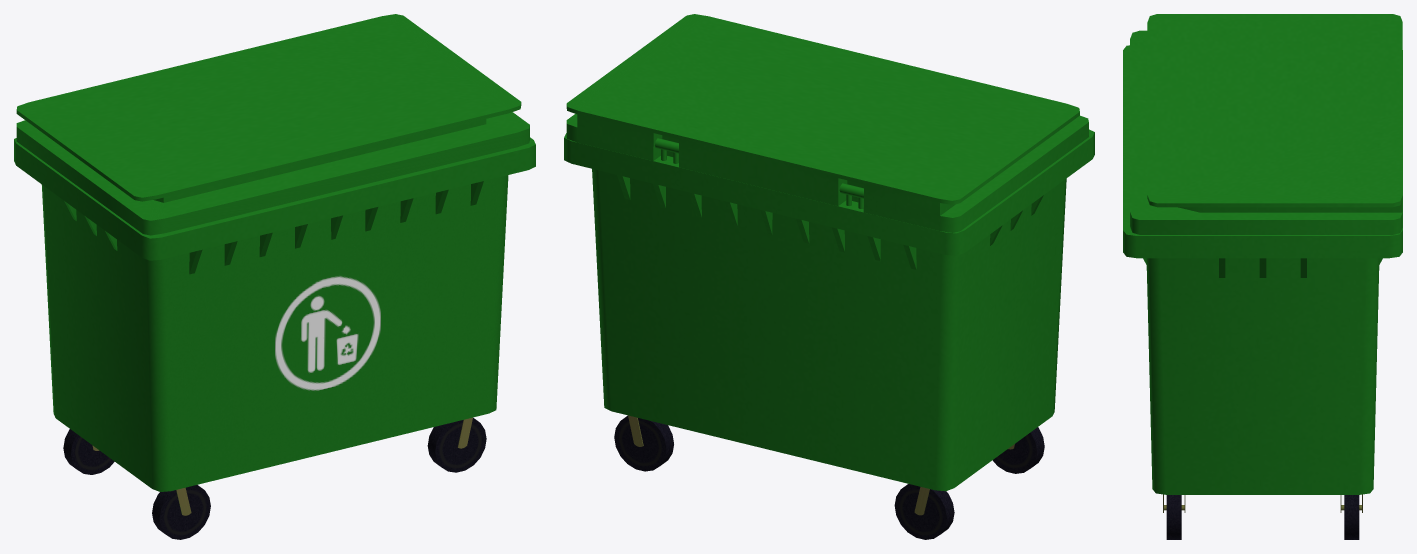
The model's file is TrashCanC_01.glb.
3 views of the same model, side by side, from view 1: azimuth 30°, elevation 25°; view 2: azimuth 150°, elevation 25°; view 3: azimuth 270°, elevation 25° (orthographic).
Visible parts, largest first — view 1: aws_robomaker_warehouse_TrashCanC_01_visual; view 2: aws_robomaker_warehouse_TrashCanC_01_visual; view 3: aws_robomaker_warehouse_TrashCanC_01_visual.
Boxes of the visible parts, left/top/right/bottom form: aws_robomaker_warehouse_TrashCanC_01_visual: left=14, top=14, right=535, bottom=539; aws_robomaker_warehouse_TrashCanC_01_visual: left=564, top=14, right=1094, bottom=539; aws_robomaker_warehouse_TrashCanC_01_visual: left=1123, top=14, right=1402, bottom=539.
Bounding box in the file's own units: 1.45 × 1.27 × 0.8916.
1 material, 1 textured.
